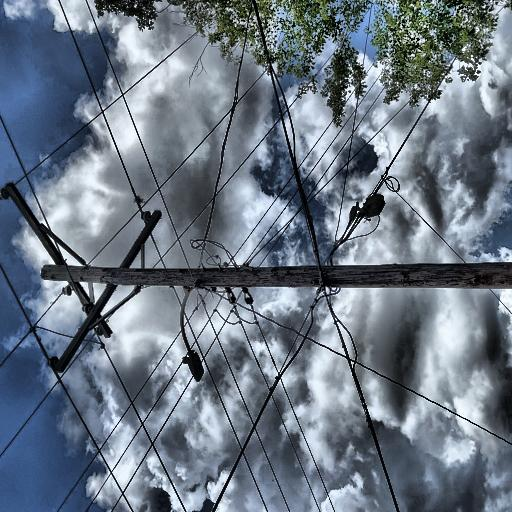pole: (98, 163, 121, 512)
street light: (16, 311, 101, 342)
